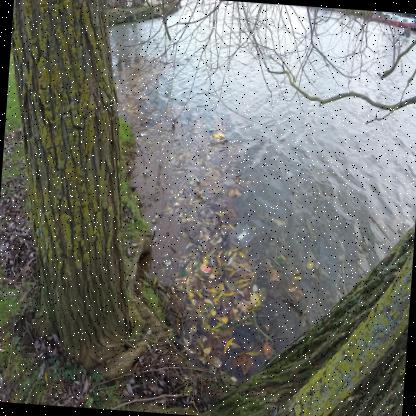Plastic bottle cap: (181, 270, 185, 275)
Tupperware: (228, 222, 255, 246)
Unlabeled litter: (200, 264, 211, 274), (143, 169, 150, 177), (139, 134, 147, 136)
